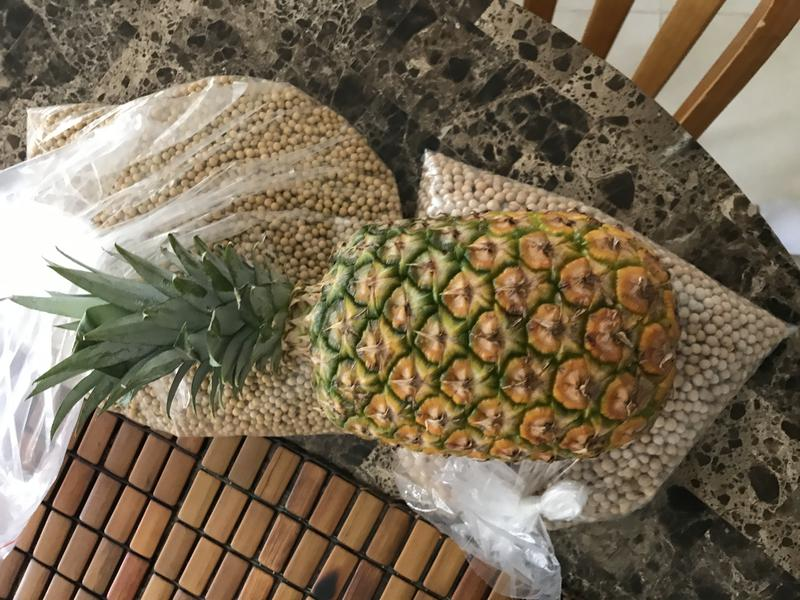pineapple: (24, 204, 687, 472)
